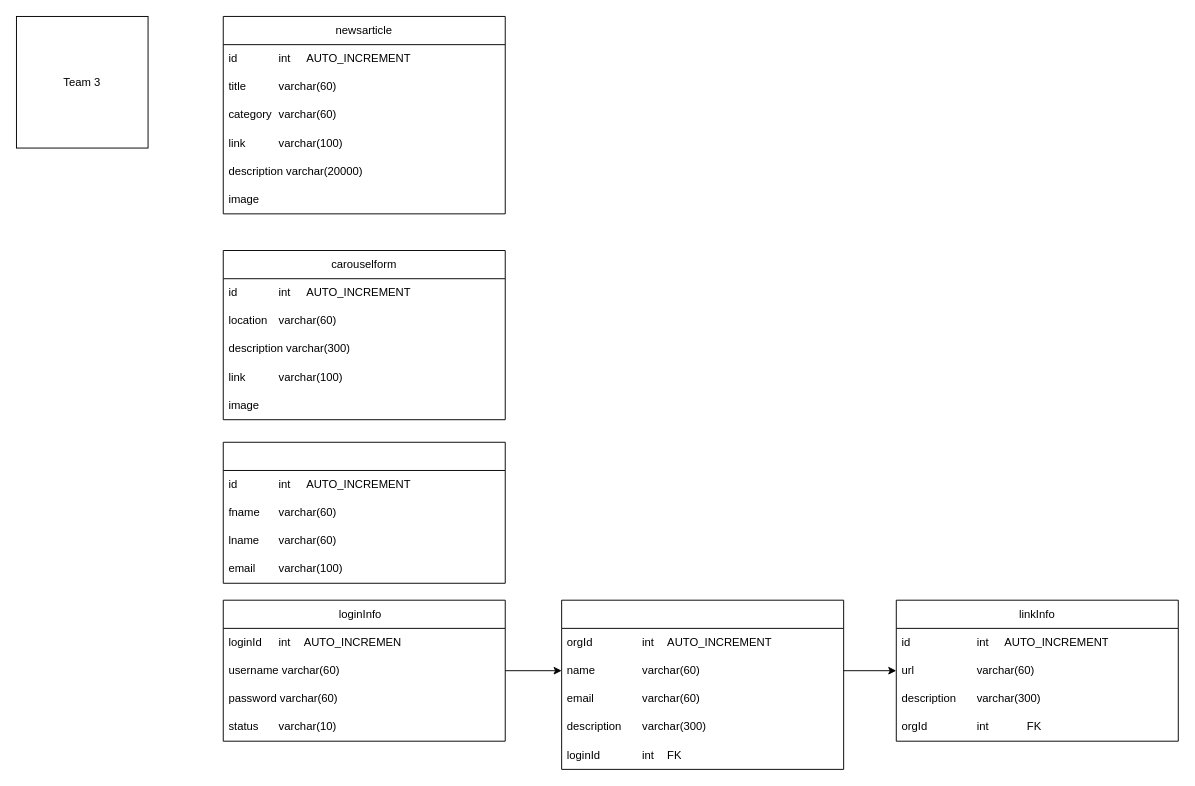
Some shapes in this 1195 by 786 pixel diagram are drawn without their labels. Here are the shapes that lost their labels. From the top down, the box of each, then its label:
(222, 441, 505, 583): newsletter
(561, 599, 844, 769): orgInfo
